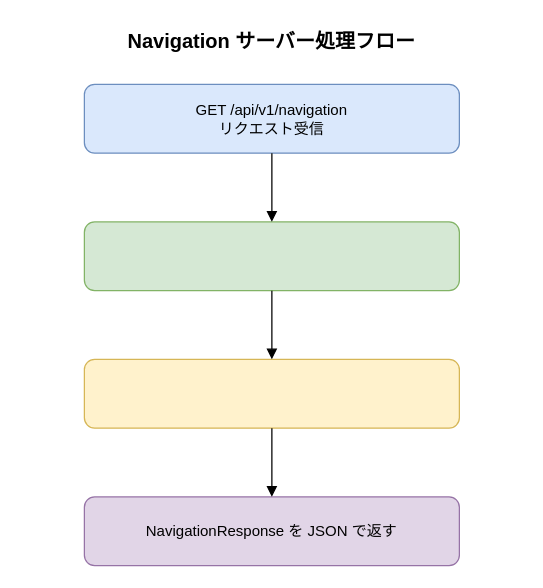
This 543x588 diagram has some shape labels left out. Here are the shapes that lost their labels. From the top down, the centre of each, then its label:
At point 271,256: "navigation.yaml を読み込む （起動時にキャッシュ済み）".
At point 271,393: "ユーザーロールでルートをフィルタリング （オプション・Phase 10）".
